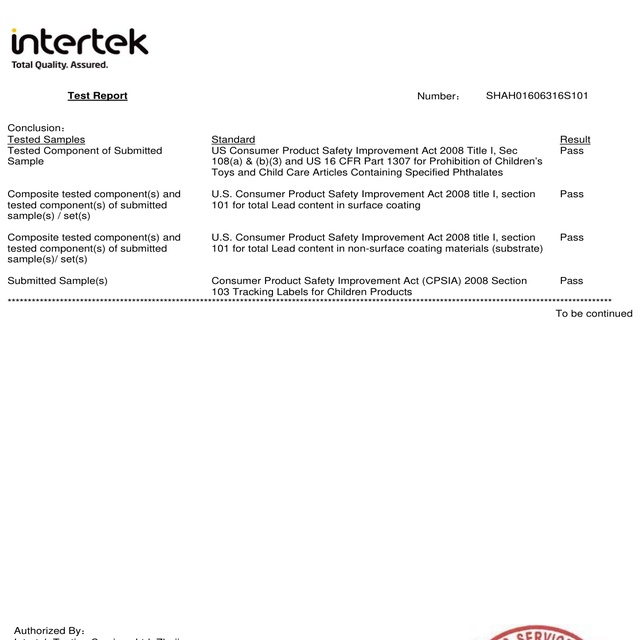intertek: (6, 23, 152, 59)
